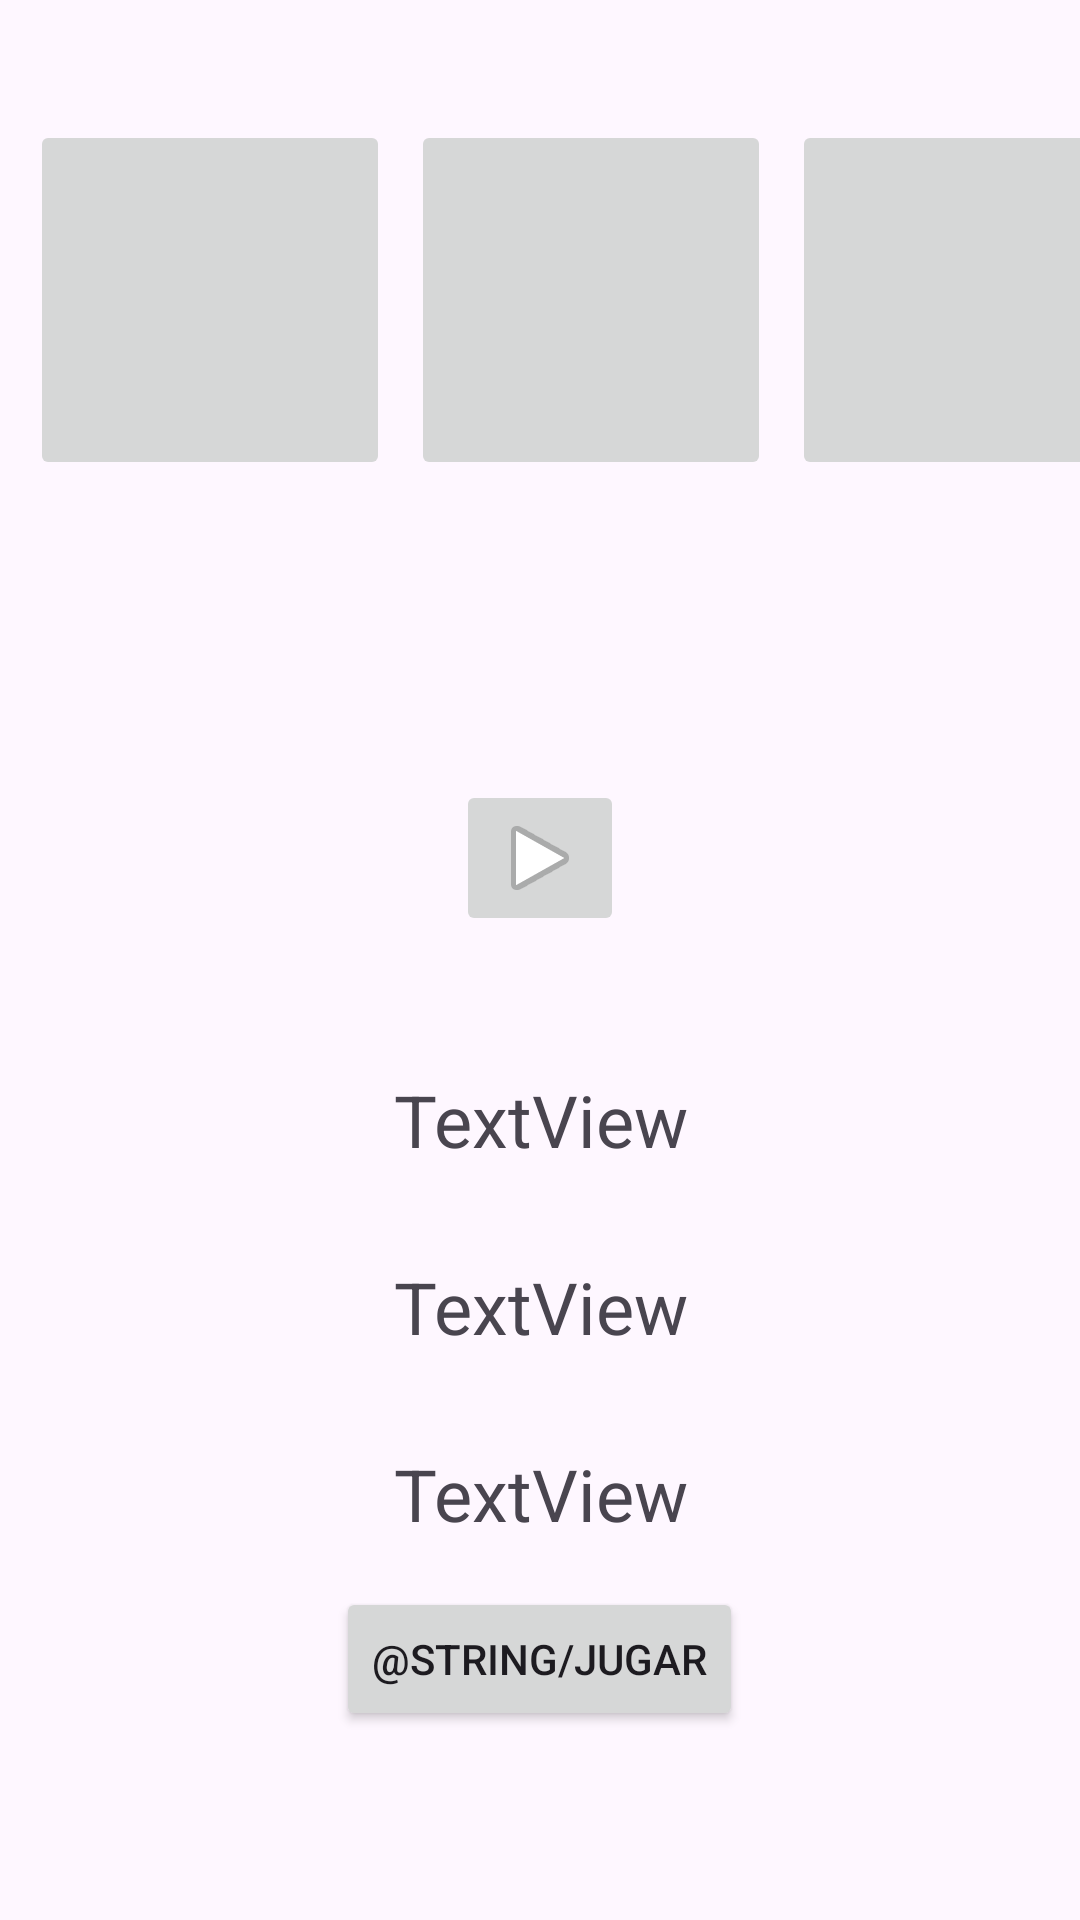

Screen size 1080w x 1920h. Icon name, then its box in pixels as (x1, y1, x2, y2):
play: (468, 798, 612, 918)
